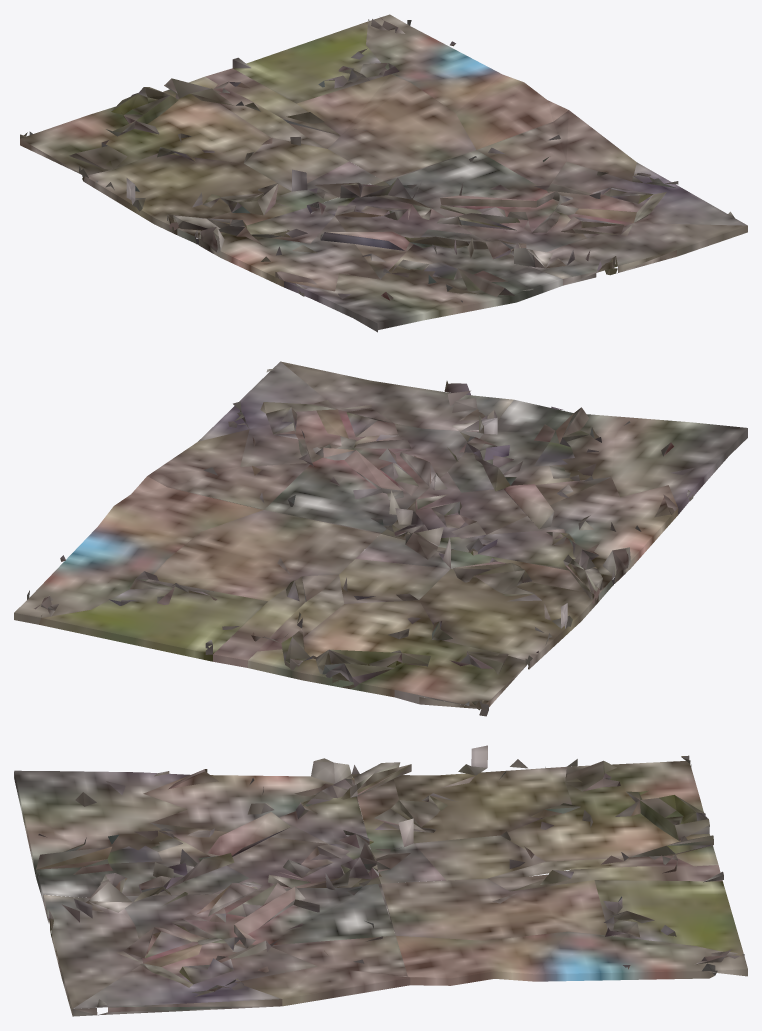
The picture shows the model from 3 angles, top to bottom: view 1: azimuth 30°, elevation 25°; view 2: azimuth 150°, elevation 25°; view 3: azimuth 270°, elevation 25°; orthographic projection. The views are drawn at different scales.
Visible parts, largest first — view 1: Mesh_0; view 2: Mesh_0; view 3: Mesh_0.
Part boxes in pixels (x1,y1,x2,y2): Mesh_0: (20, 14, 747, 332); Mesh_0: (14, 361, 747, 716); Mesh_0: (14, 745, 747, 1016).
Size of the model in its own units: 1079 by 69.17 by 1318.
1 material, 1 textured.
